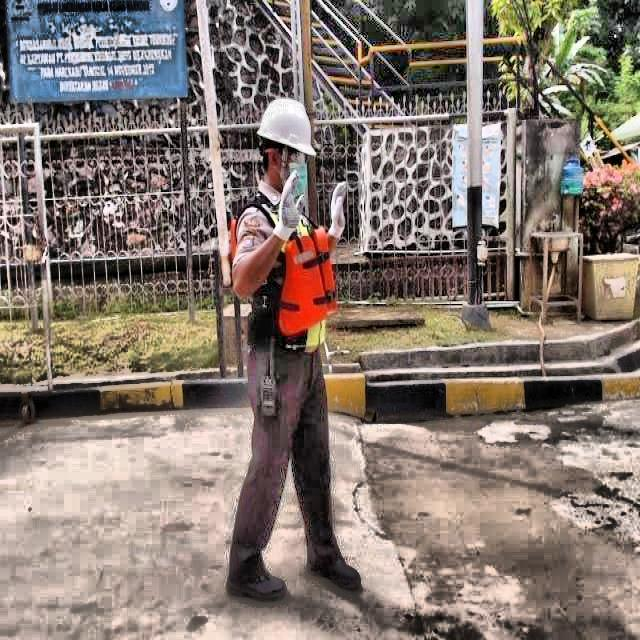safety_helmet: (254, 90, 322, 160)
safety_jacket: (225, 183, 344, 346)
